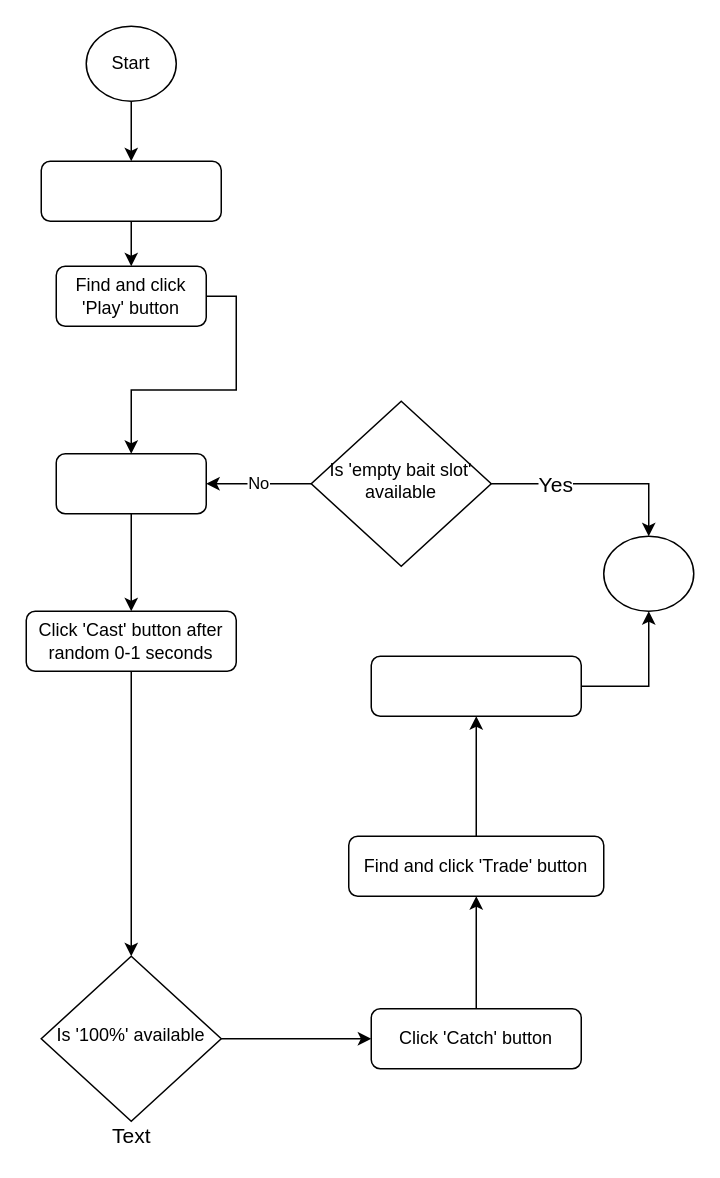
The diagram is 720 pixels wide and 1178 high, and some of its shapes have lost their labels. Each missing label, with the centre of its shape:
"End" belongs at (648,573).
"Find and click 'Fishing' button" belongs at (130,190).
"Find and click 'Start' button" belongs at (130,483).
"Find and click 'X' button" belongs at (475,685).
